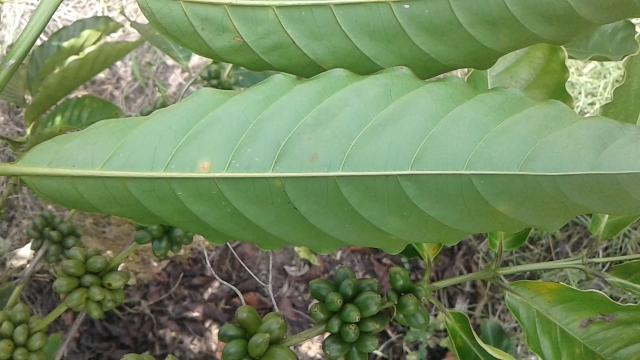rust_level_1: (15, 66, 640, 258)
